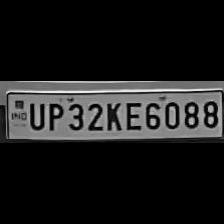0: (162, 98, 180, 130)
2: (84, 99, 104, 131)
3: (64, 99, 84, 131)
6: (142, 98, 160, 130)
8: (180, 97, 200, 130), (200, 97, 218, 129)
E: (122, 98, 142, 132)
K: (102, 98, 122, 132)
P: (44, 99, 64, 131)
U: (26, 99, 44, 130)
